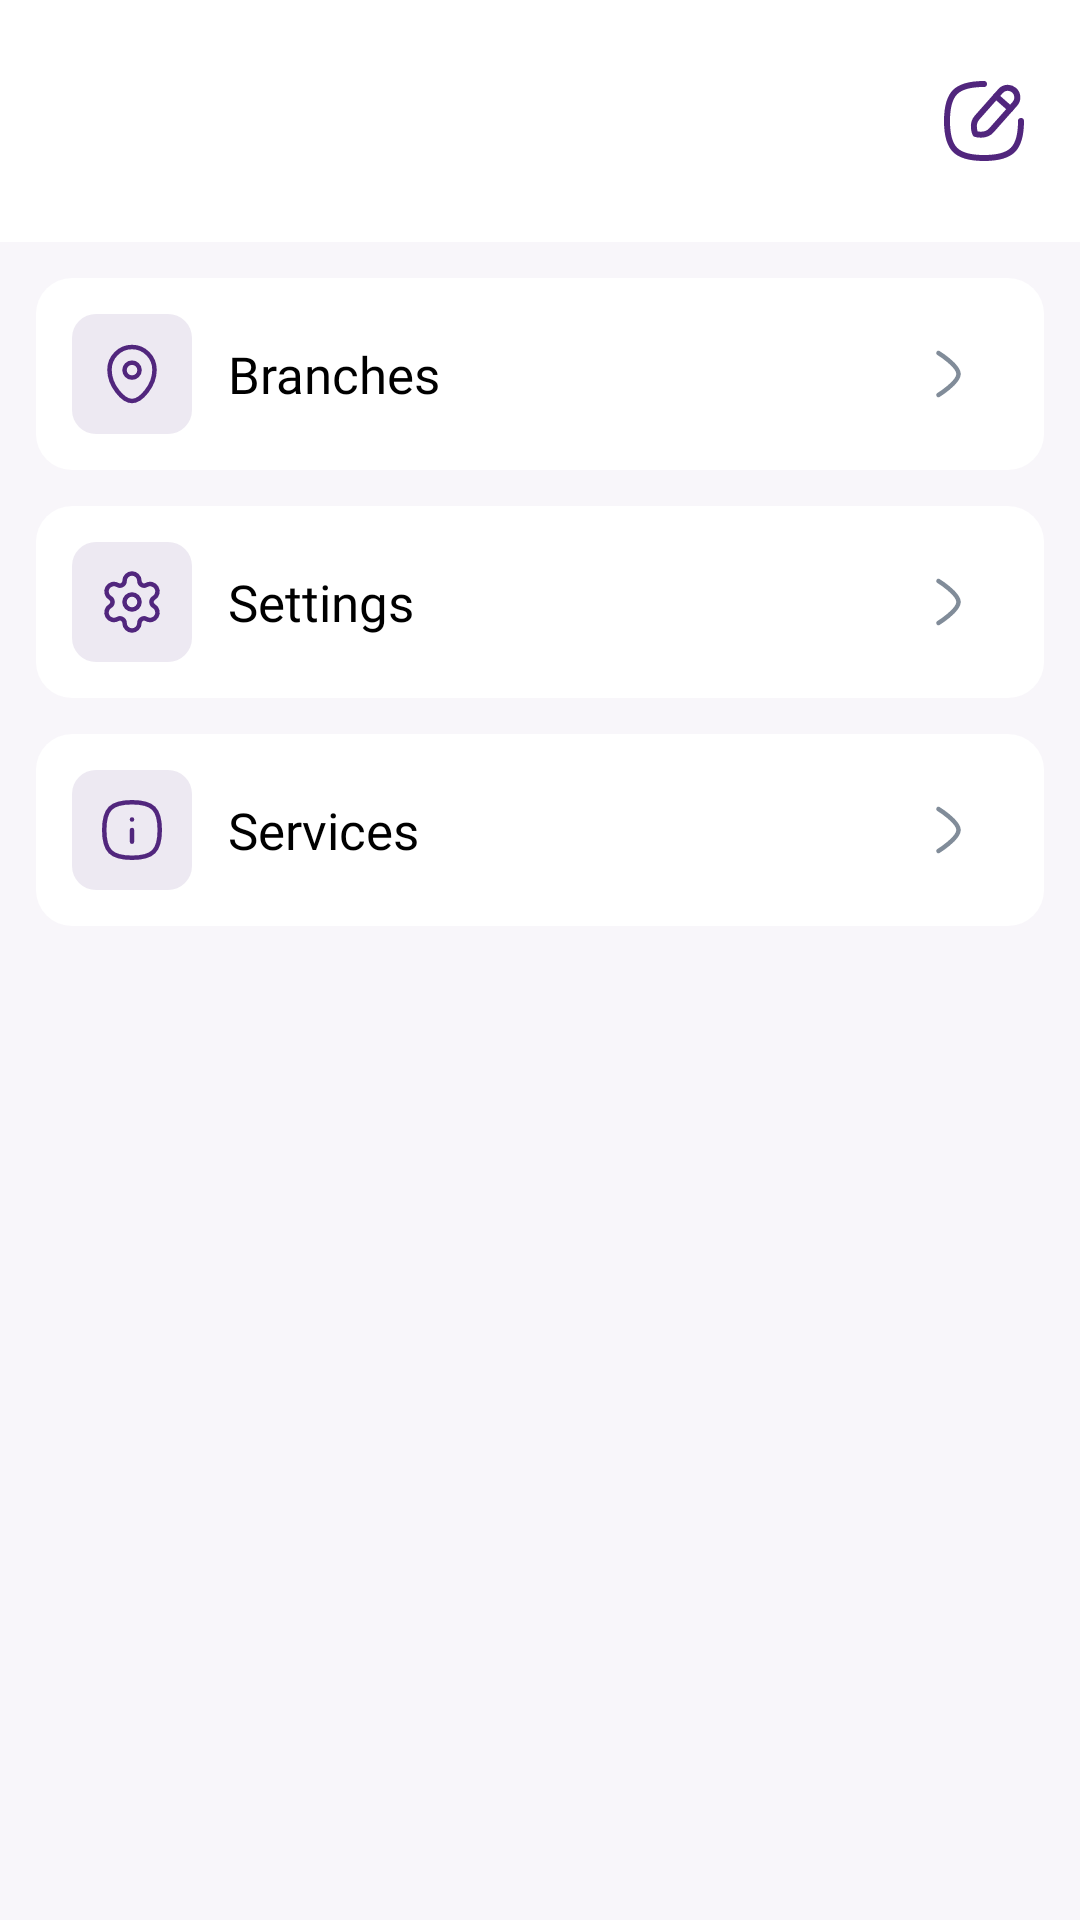

Named icons in this screenshot (1080w x 1920h) and their centers, point (x, y):
edit: point (984, 121)
info: point (132, 830)
location: point (132, 374)
right: point (948, 374), point (948, 602), point (948, 830)
